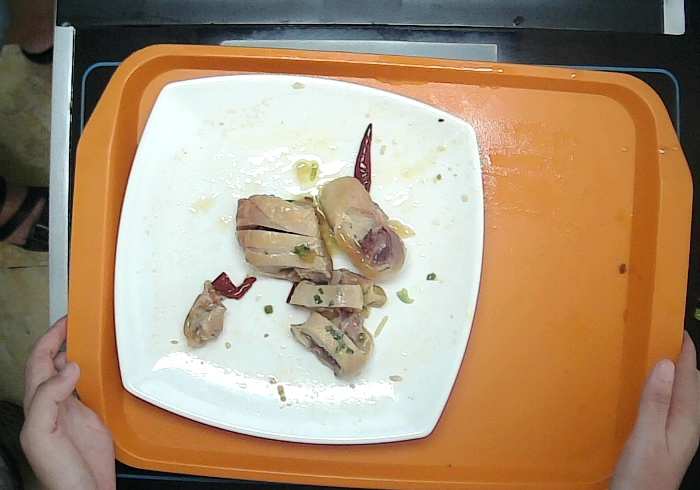ZNLD-Bai_Fang_Pan: (113, 72, 489, 447)
